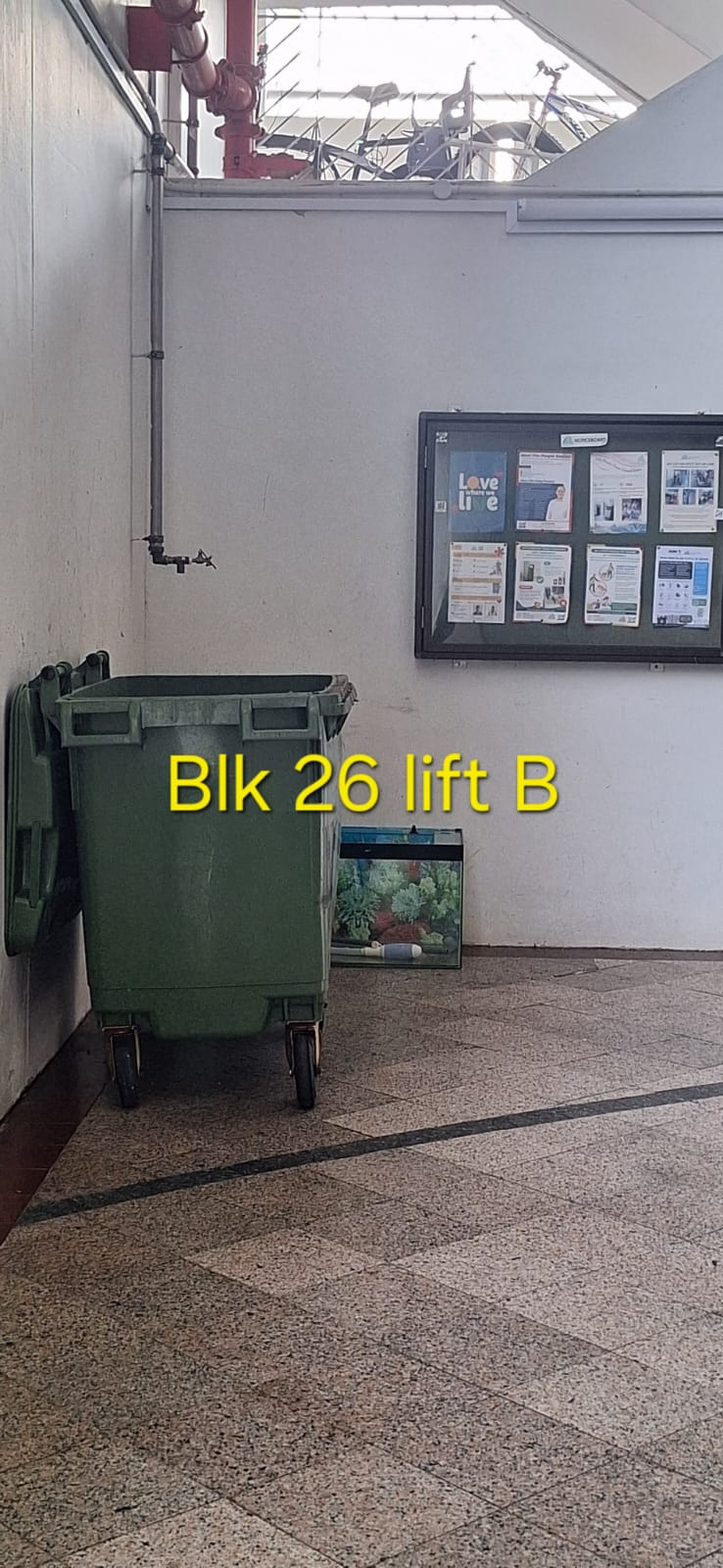bin_empty: (55, 671, 355, 1108)
bulk_waste: (332, 825, 463, 967)
